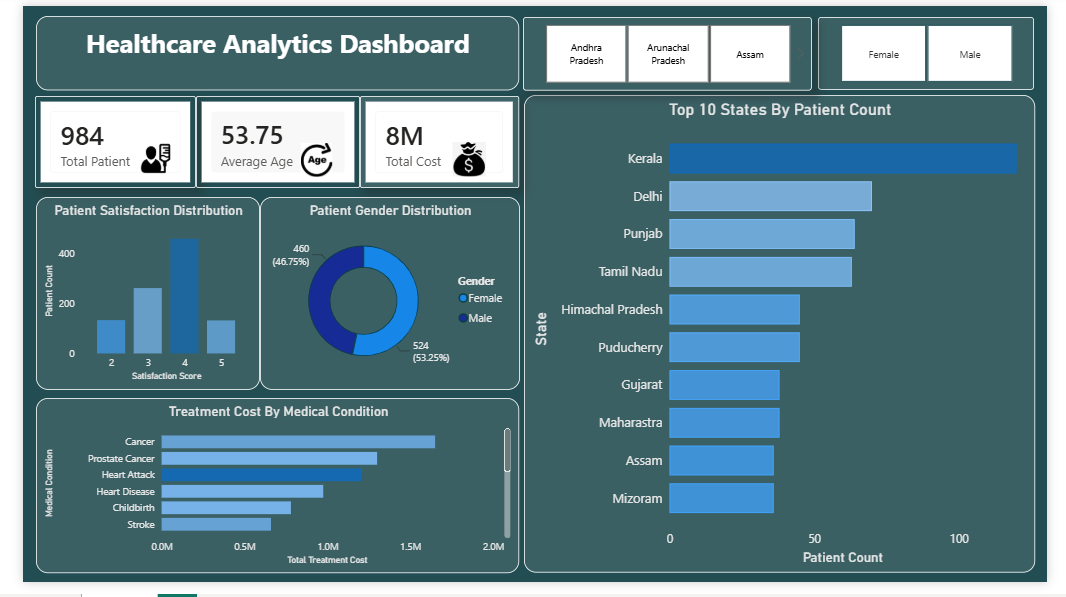

Layout of this report page (visuals, bound fields, positions):
{"tool":"powerbi","page":{"name":"Page 1","canvas":[1280,720],"ordinal":0},"visuals":[{"type":"cardVisual","title":"fhfhjj","fields":{"Data":["CountNonNull(Hospital Patient.Patient_ID)"]},"box":[15.5,112.4,201,115.5],"z":0},{"type":"cardVisual","fields":{"Data":["Sum(Hospital Patient.Total_Cost)"]},"box":[421.2,112.5,198.8,115],"z":1000},{"type":"donutChart","title":"Patient Gender Distribution","fields":{"Category":["Hospital Patient.Gender"],"Y":["CountNonNull(Hospital Patient.Patient_ID)"]},"box":[295.7,239.1,324.6,240.6],"z":2000},{"type":"clusteredBarChart","title":"Top 10 States By Patient Count","fields":{"Category":["Hospital Patient.Patient_State"],"Y":["CountNonNull(Hospital Patient.Patient_ID)"]},"box":[625.7,111.4,638.6,597.1],"z":3000},{"type":"slicer","fields":{"Values":["Hospital Patient.Gender"]},"box":[994.3,14.3,270,91.4],"z":4000},{"type":"textbox","box":[15.9,13,604.3,92.8],"z":5000},{"type":"cardVisual","fields":{"Data":["Avg(Hospital Patient.Age)"]},"box":[216.5,112.4,205.2,115.5],"z":6000},{"type":"slicer","fields":{"Values":["Hospital Patient.Patient_State"]},"box":[624.7,13.4,360.8,91.8],"z":7000},{"type":"columnChart","title":"Patient Satisfaction Distribution","fields":{"Category":["Hospital Patient.Satisfaction"],"Y":["CountNonNull(Hospital Patient.Patient_ID)"]},"box":[15.9,239.1,279.7,240.6],"z":8000},{"type":"clusteredBarChart","title":"Treatment  Cost By Medical Condition","fields":{"Category":["Hospital Patient.Condition"],"Y":["Sum(Hospital Patient.Total_Cost)"]},"box":[15.7,490,604.4,219.1],"z":9000},{"type":"image","box":[131.2,168.8,68.8,43.8],"z":10000},{"type":"image","box":[529.1,170,57.3,42.7],"z":11000},{"type":"image","box":[337.3,170.9,59.1,41.8],"z":12000}]}

Visuals, with their boxes in screenshot pixels (x1, y1, x2, y2), scaled from the page's 1280x720 canvas onto the 1066x597 screenshot:
"fhfhjj" cardVisual: (left=13, top=93, right=180, bottom=189)
cardVisual - Sum(Hospital Patient.Total_Cost): (left=351, top=93, right=516, bottom=189)
"Patient Gender Distribution" donutChart: (left=246, top=198, right=517, bottom=398)
"Top 10 States By Patient Count" clusteredBarChart: (left=521, top=92, right=1053, bottom=587)
slicer - Hospital Patient.Gender: (left=828, top=12, right=1053, bottom=88)
textbox: (left=13, top=11, right=517, bottom=88)
cardVisual - Avg(Hospital Patient.Age): (left=180, top=93, right=351, bottom=189)
slicer - Hospital Patient.Patient_State: (left=520, top=11, right=821, bottom=87)
"Patient Satisfaction Distribution" columnChart: (left=13, top=198, right=246, bottom=398)
"Treatment  Cost By Medical Condition" clusteredBarChart: (left=13, top=406, right=516, bottom=588)
image: (left=109, top=140, right=167, bottom=176)
image: (left=441, top=141, right=488, bottom=176)
image: (left=281, top=142, right=330, bottom=176)
